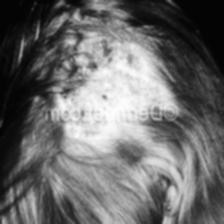Toxin: (42, 38, 164, 108), (62, 122, 110, 141)
